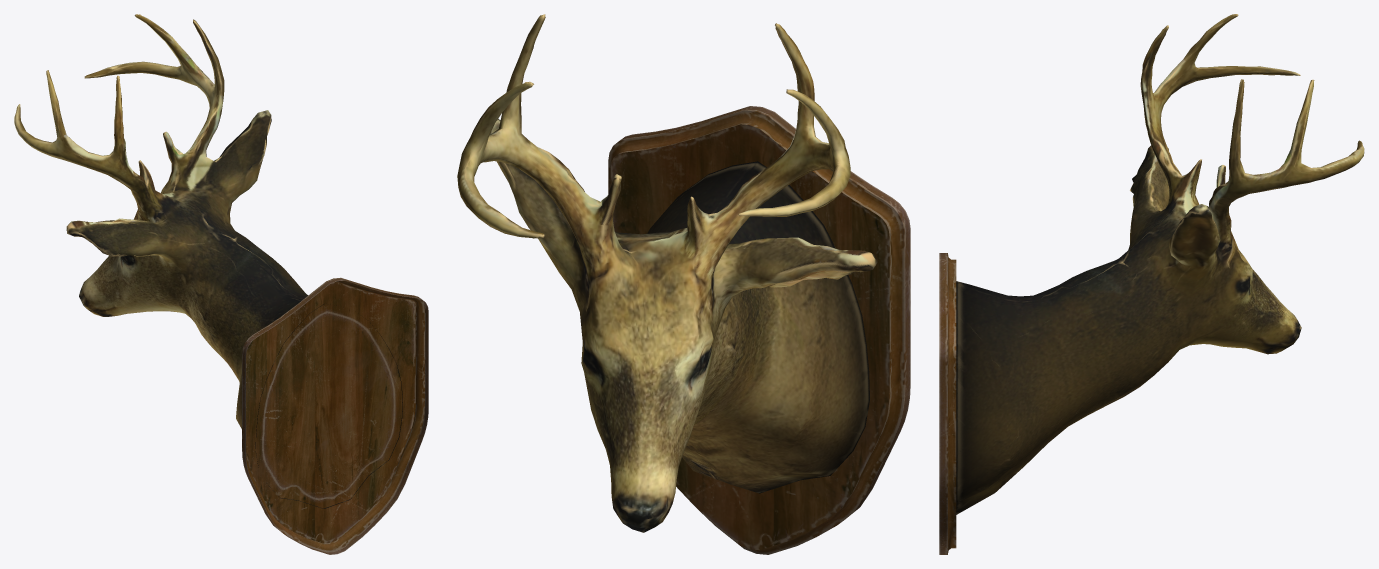
Rendered from Prop_DeerHead.fbx.
3 views of the same model, side by side, from view 1: azimuth 30°, elevation 25°; view 2: azimuth 150°, elevation 25°; view 3: azimuth 270°, elevation 25° (orthographic). The views are drawn at different scales.
Visible parts, largest first — view 1: Prop_DeerHead; view 2: Prop_DeerHead; view 3: Prop_DeerHead.
Part boxes in pixels (bbox=[...]): Prop_DeerHead: bbox=[14, 14, 428, 554]; Prop_DeerHead: bbox=[457, 14, 910, 554]; Prop_DeerHead: bbox=[939, 14, 1364, 554].
Size of the model in its own units: 46.3 by 71.25 by 58.34.
